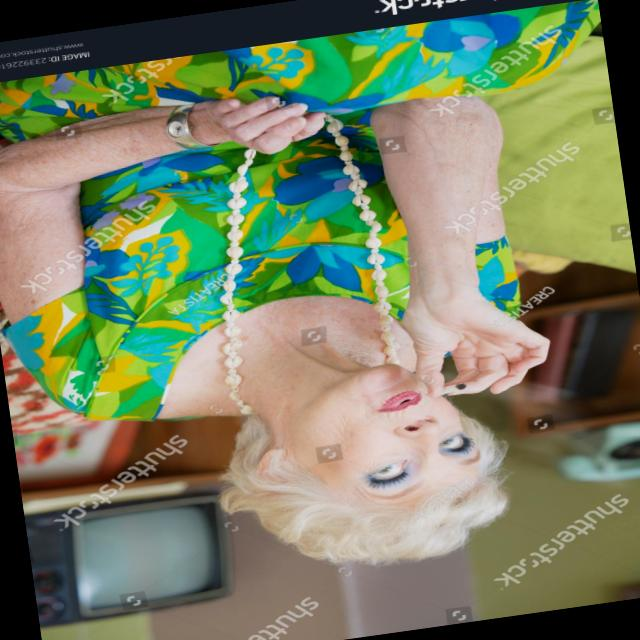smoke: (410, 368, 483, 416)
